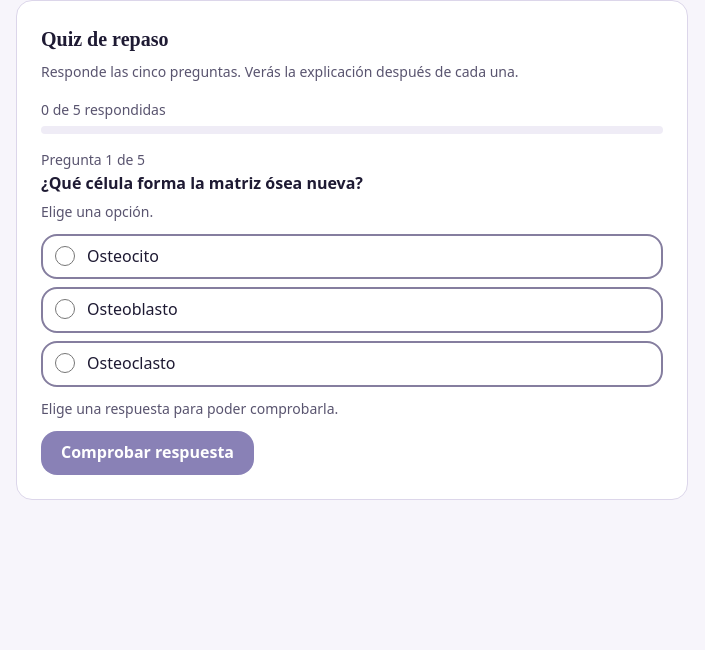
it: ActividadQuiz: retroalimentación inmediata tras cada pregunta › acierto: veredicto, marcas con texto, explicación y entradas bloqueadas
Click the radio button labelled "Osteoblasto" at x=65, y=309, box top-left (55, 299), bottom-right (75, 319)
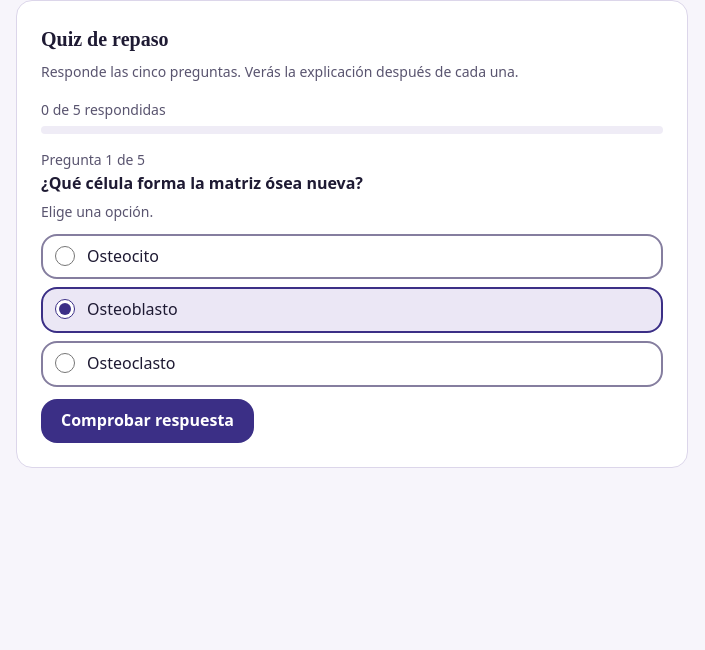
Click the button "Comprobar respuesta" at x=148, y=420, box top-left (41, 398), bottom-right (254, 442)
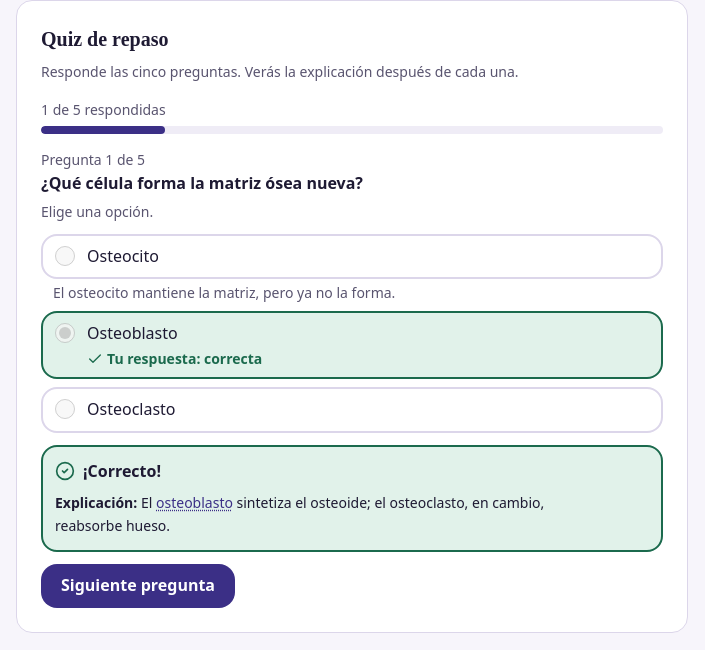
Expected: the element that starts with "¡Correcto!" is shown, top-left (83, 460), bottom-right (161, 482)
Expected: the element that starts with "¡Correcto!" shows "sintetiza el osteoide", top-left (55, 493), bottom-right (544, 535)
Expected: the 2nd icon is shown, top-left (55, 461), bottom-right (75, 481)
